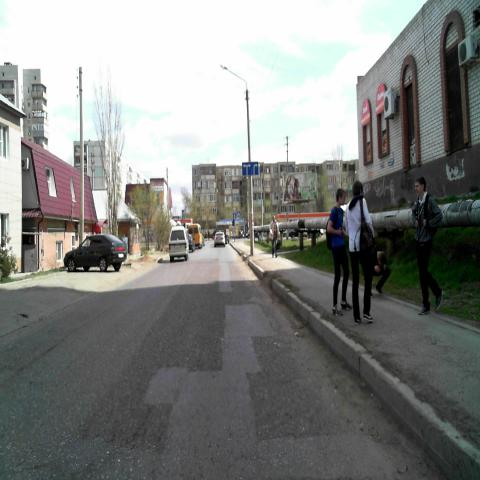5_15_2_2: (242, 161, 258, 175)
